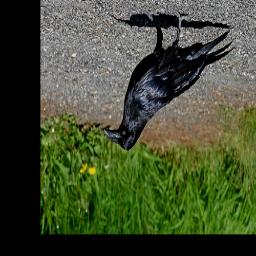Crow: (104, 6, 238, 151)
